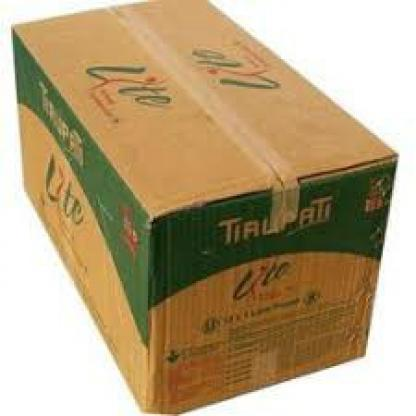box: (11, 2, 407, 415)
